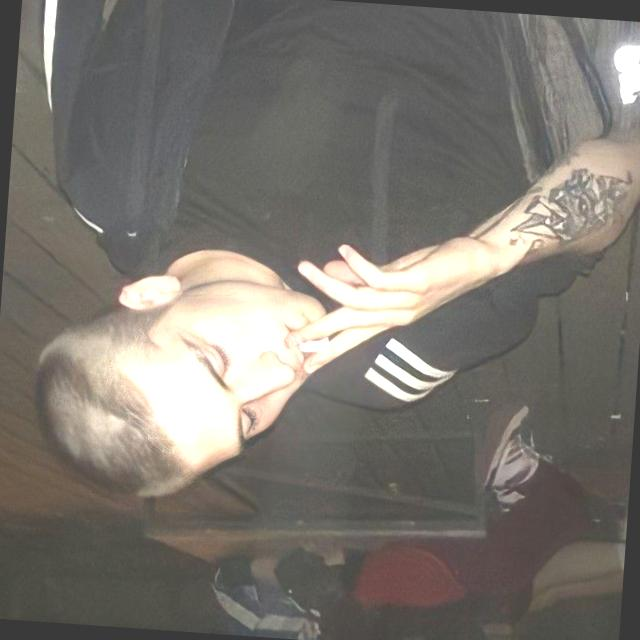cigarette: (286, 326, 339, 369)
